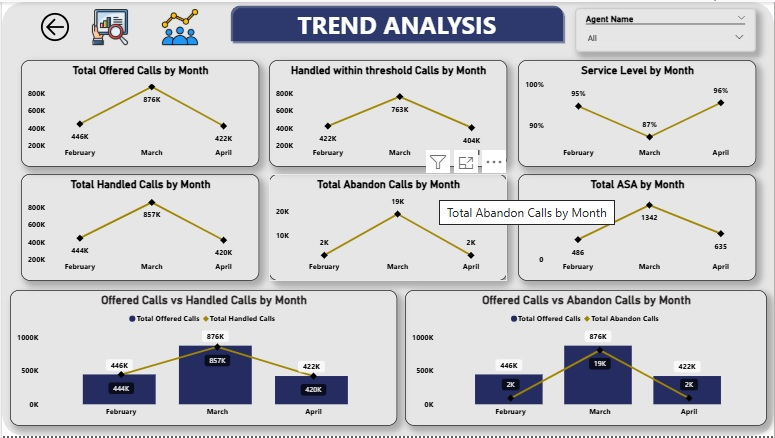

The page's visual inventory and layout, read from the dashboard file:
{"tool":"powerbi","page":{"name":"Trend Analysis","canvas":[1280,720],"ordinal":3},"visuals":[{"type":"shape","box":[0,0,1280,719.6],"z":0},{"type":"shape","box":[372.7,0,563.1,71.4],"z":1000},{"type":"lineStackedColumnComboChart","title":"Offered Calls vs Handled Calls by Month","fields":{"Y":["Project.Total Offered Calls"],"Category":["Calendar.Date.Variation.Date Hierarchy.Month"],"Y2":["Project.Total Handled Calls"]},"box":[13.3,477.5,641.7,225.5],"z":2000},{"type":"lineStackedColumnComboChart","title":"Offered Calls vs Abandon Calls by Month","fields":{"Y":["Project.Total Offered Calls"],"Category":["Calendar.Date.Variation.Date Hierarchy.Month"],"Y2":["Project.Total Abandon Calls"]},"box":[668.2,477.5,600.2,225.5],"z":3000},{"type":"lineChart","fields":{"Category":["Calendar.Date.Variation.Date Hierarchy.Month"],"Y":["Project.Total Offered Calls"]},"box":[31.5,96.2,394.6,177.4],"z":4000},{"type":"lineChart","fields":{"Category":["Calendar.Date.Variation.Date Hierarchy.Month"],"Y":["Project.Total Handled Calls"]},"box":[31.5,285.2,394.6,177.4],"z":5000},{"type":"lineChart","title":"Handled within threshold Calls by Month","fields":{"Category":["Calendar.Date.Variation.Date Hierarchy.Month"],"Y":["Project.Total calls within Threshold"]},"box":[442.7,96.2,394.6,177.4],"z":6000},{"type":"lineChart","title":"Total Abandon Calls by Month","fields":{"Category":["Calendar.Date.Variation.Date Hierarchy.Month"],"Y":["Project.Total Abandon Calls"]},"box":[442.7,285.2,394.6,177.4],"z":7000},{"type":"lineChart","fields":{"Category":["Calendar.Date.Variation.Date Hierarchy.Month"],"Y":["Project.Service Level"]},"box":[855.5,96.2,394.6,177.4],"z":8000},{"type":"lineChart","fields":{"Category":["Calendar.Date.Variation.Date Hierarchy.Month"],"Y":["Project.Total ASA"]},"box":[855.5,285.2,394.6,177.4],"z":9000},{"type":"slicer","fields":{"Values":["Agent.Agent Name"]},"box":[950.1,9.9,300.1,73],"z":10000},{"type":"image","box":[237.1,11.6,116.1,59.7],"z":10001},{"type":"image","box":[121,11.6,116.1,59.7],"z":10002},{"type":"actionButton","box":[58,11.6,74.6,59.7],"z":10003}]}

Visuals, with their boxes in screenshot pixels (x1, y1, x2, y2), scaled from the page's 1280x720 canvas onto the 775x438 screenshot:
shape: 0,0,774,437
shape: 226,0,567,43
"Offered Calls vs Handled Calls by Month" lineStackedColumnComboChart: 8,290,397,428
"Offered Calls vs Abandon Calls by Month" lineStackedColumnComboChart: 405,290,768,428
lineChart - Calendar.Date.Variation.Date Hierarchy.Month x Project.Total Offered Calls: 19,59,258,166
lineChart - Calendar.Date.Variation.Date Hierarchy.Month x Project.Total Handled Calls: 19,173,258,281
"Handled within threshold Calls by Month" lineChart: 268,59,507,166
"Total Abandon Calls by Month" lineChart: 268,173,507,281
lineChart - Calendar.Date.Variation.Date Hierarchy.Month x Project.Service Level: 518,59,757,166
lineChart - Calendar.Date.Variation.Date Hierarchy.Month x Project.Total ASA: 518,173,757,281
slicer - Agent.Agent Name: 575,6,757,50
image: 144,7,214,43
image: 73,7,144,43
actionButton: 35,7,80,43
